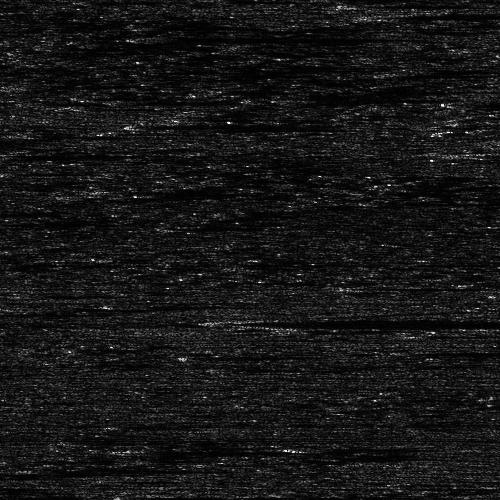object: (91, 119, 174, 128), (372, 11, 435, 20), (442, 148, 500, 155), (90, 494, 163, 499), (182, 318, 245, 323), (155, 354, 218, 359), (328, 284, 391, 289), (127, 34, 180, 39), (117, 448, 158, 453), (442, 98, 483, 103), (442, 492, 483, 495), (9, 467, 50, 470), (0, 152, 22, 157), (290, 445, 321, 448), (490, 214, 500, 219)
shadow: (133, 119, 326, 128), (214, 318, 500, 323), (154, 34, 406, 39), (138, 448, 369, 453), (2, 152, 185, 157), (404, 11, 500, 20), (0, 208, 67, 217), (30, 467, 207, 470), (360, 284, 464, 289), (187, 354, 284, 359), (127, 494, 218, 499), (306, 445, 405, 448), (462, 98, 500, 103), (474, 148, 500, 155), (338, 1, 392, 4), (462, 492, 500, 495)
